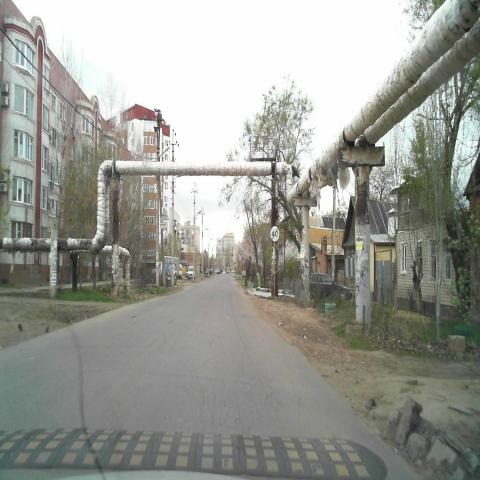3_25: (270, 225, 280, 242)
